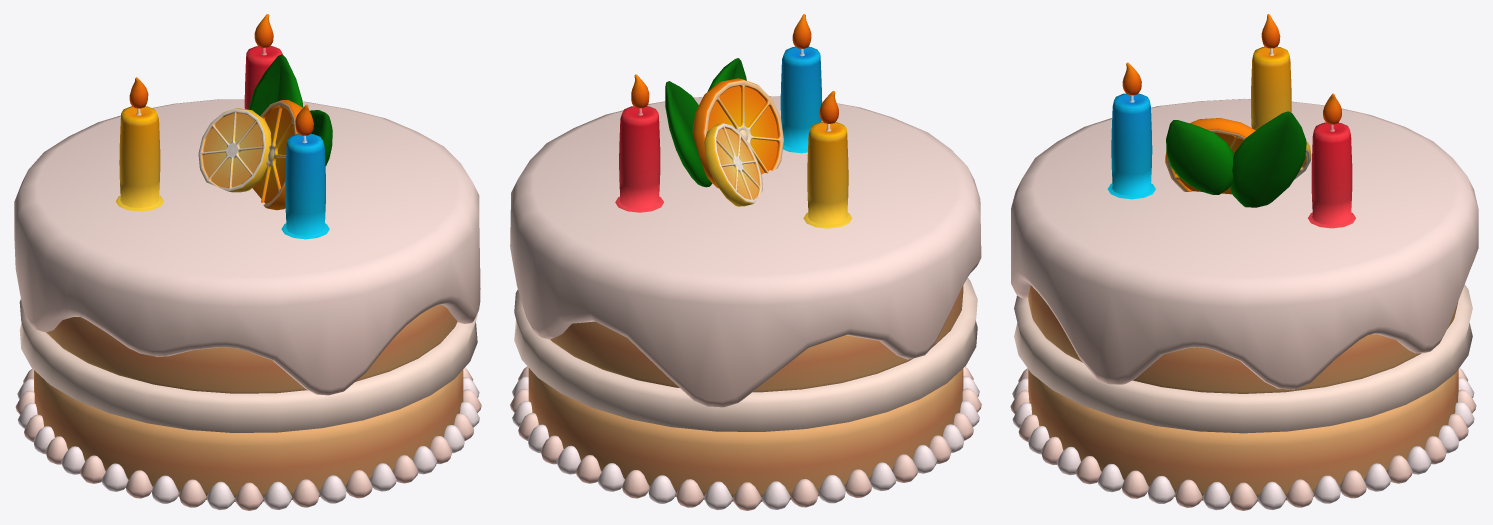
The model's file is Cake_Lemon_V3_00.fbx.
3 views of the same model, side by side, from view 1: azimuth 30°, elevation 25°; view 2: azimuth 150°, elevation 25°; view 3: azimuth 270°, elevation 25° (orthographic).
Visible parts, largest first — view 1: Cake_Lemon_V3_00; view 2: Cake_Lemon_V3_00; view 3: Cake_Lemon_V3_00.
Part boxes in pixels (x1,y1,x2,y2): Cake_Lemon_V3_00: (14,14,481,510); Cake_Lemon_V3_00: (510,14,981,510); Cake_Lemon_V3_00: (1010,14,1478,510).
Bounding box in the file's own units: 65.77 × 55.09 × 65.84.
